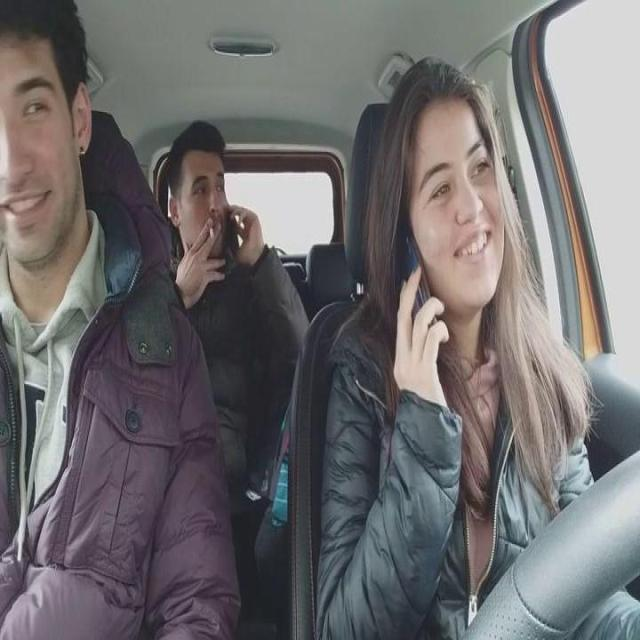phone: (396, 215, 436, 326)
